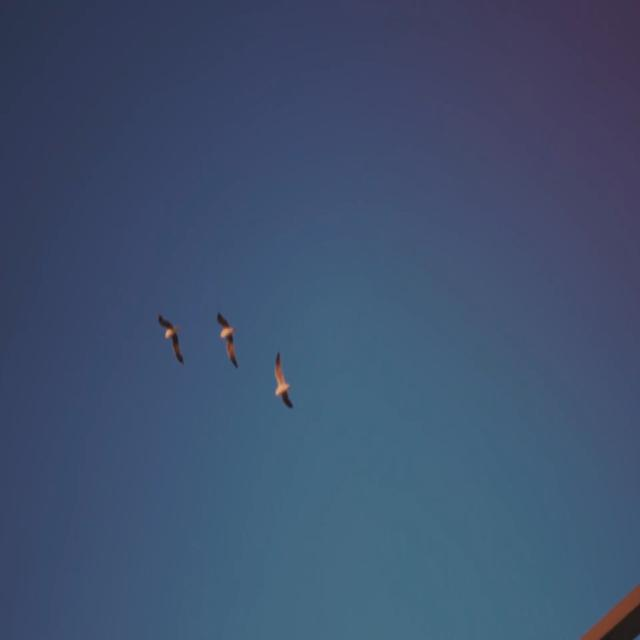bird: (157, 309, 186, 367), (216, 311, 240, 371), (273, 348, 295, 412)
